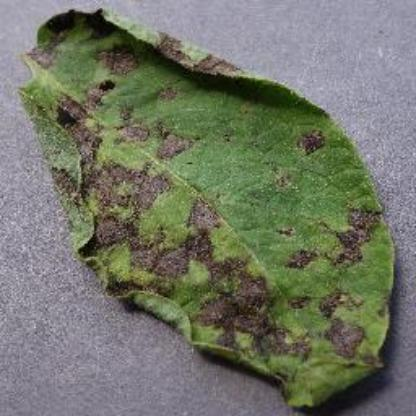Early-Blight: (20, 6, 396, 410)
